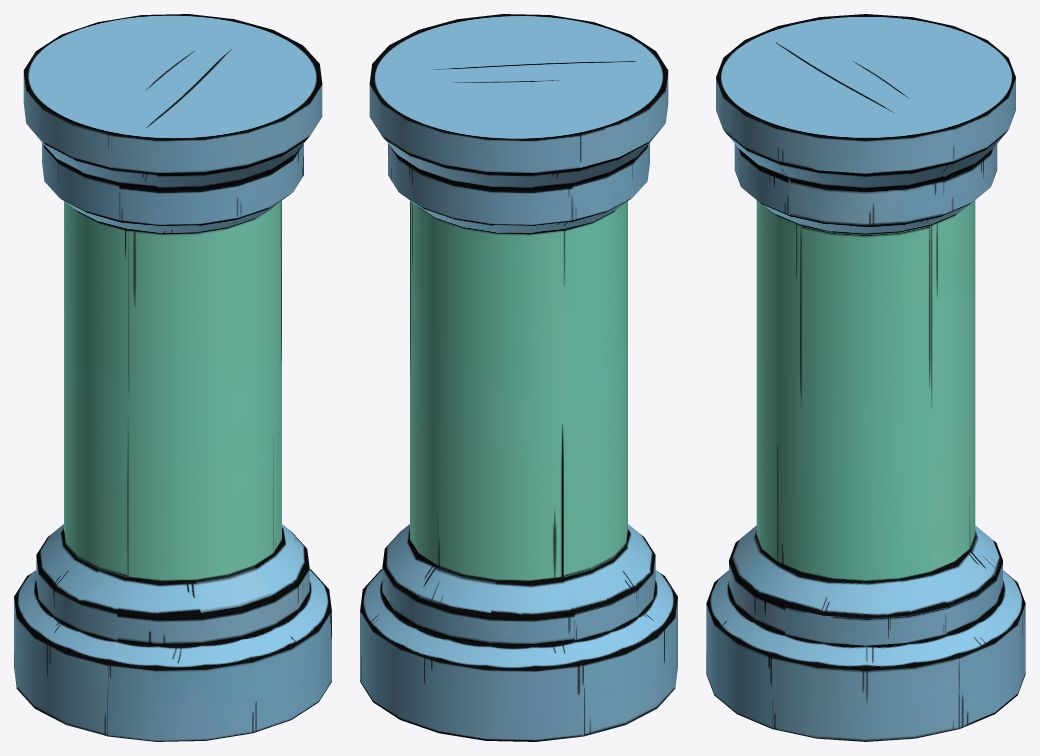
The model's file is tank.fbx.
3 views of the same model, side by side, from view 1: azimuth 30°, elevation 25°; view 2: azimuth 150°, elevation 25°; view 3: azimuth 270°, elevation 25° (orthographic).
Parts seen in each view (by area): view 1: tank1; view 2: tank1; view 3: tank1.
Boxes of the visible parts, x1,y1,x2,y2 form: tank1: (14,14,331,741); tank1: (360,14,677,741); tank1: (706,14,1025,741).
Size of the model in its own units: 1.35 by 2.79 by 1.35.
